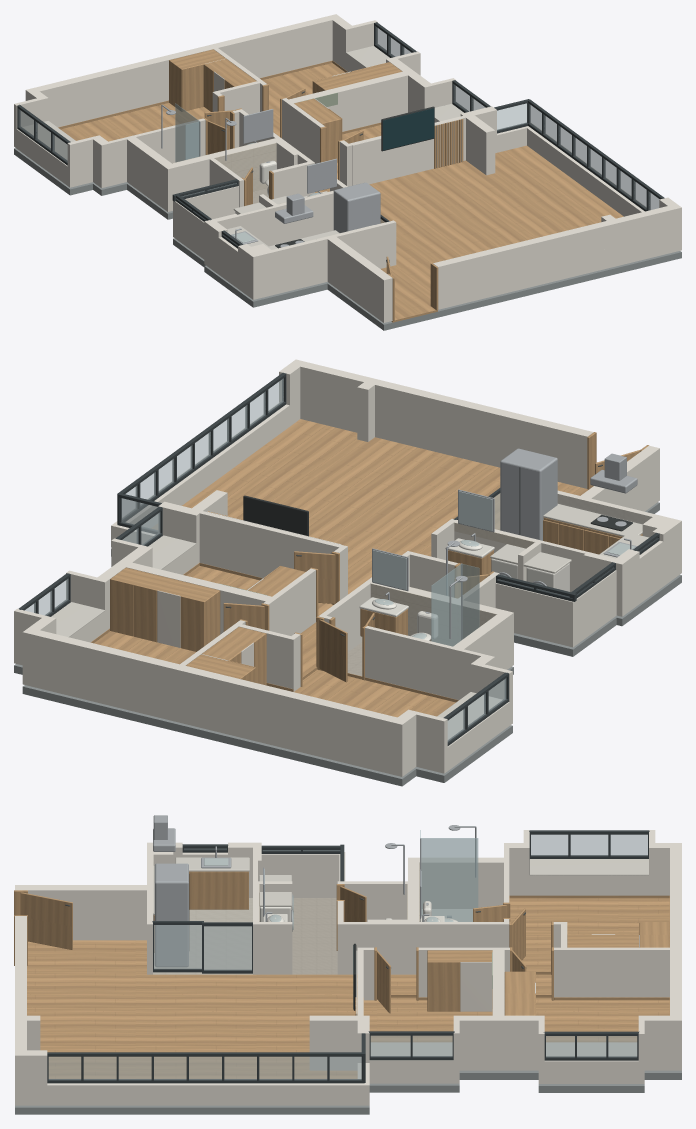
File: architecture-cut.glb
3 views of the same model, one above another, from view 1: azimuth 30°, elevation 25°; view 2: azimuth 150°, elevation 25°; view 3: azimuth 270°, elevation 25° (orthographic). The views are drawn at different scales.
Parts seen in each view (by area): view 1: 剖切墙_0.00_00, 客餐厅阳台及过道_地面, 剖切墙_0.50_04, 剖切墙_0.50_00, 住宅楼板, 剖切墙_0.95_00, 剖切墙_0.50_02, 剖切墙_0.95_04, 剖切_原木方案_暖白电视墙, 剖切墙_0.95_02, 剖切墙_0.50_01, 剖切墙_0.45_00 (+26 smaller); view 2: 剖切墙_0.00_00, 客餐厅阳台及过道_地面, 剖切墙_0.50_04, 剖切墙_0.50_00, 剖切墙_0.95_00, 住宅楼板, 剖切墙_0.50_02, 剖切墙_0.95_04, 对开门冰箱_家电占位, 剖切墙_0.95_02, 剖切墙_0.45_00, 主卧与开放衣帽间_地面 (+39 smaller); view 3: 客餐厅阳台及过道_地面, 剖切墙_0.00_00, 剖切墙_0.50_04, 住宅楼板, 主卧与开放衣帽间_地面, 剖切墙_0.95_04, 主卫淋浴_东玻璃, 剖切墙_0.95_00, 长辈房_地面, 剖切墙_0.50_00, 厨房_地面, 公卫湿区与盥洗晾晒_地面 (+54 smaller).
Boxes of the visible parts, x1,y1,x2,y2 form: 剖切墙_0.00_00: [14, 45, 681, 322]; 客餐厅阳台及过道_地面: [315, 145, 623, 322]; 剖切墙_0.50_04: [67, 117, 396, 303]; 剖切墙_0.50_00: [14, 26, 373, 128]; 住宅楼板: [14, 148, 681, 330]; 剖切墙_0.95_00: [14, 14, 377, 111]; 剖切墙_0.50_02: [438, 206, 681, 290]; 剖切墙_0.95_04: [67, 109, 314, 186]; 剖切_原木方案_暖白电视墙: [352, 118, 462, 185]; 剖切墙_0.95_02: [433, 197, 681, 272]; 剖切墙_0.50_01: [282, 59, 452, 149]; 剖切墙_0.45_00: [14, 43, 496, 305]; 剖切墙_0.00_00: [14, 397, 681, 776]; 客餐厅阳台及过道_地面: [152, 419, 588, 676]; 剖切墙_0.50_04: [334, 455, 681, 701]; 剖切墙_0.50_00: [14, 618, 447, 752]; 剖切墙_0.95_00: [14, 608, 447, 731]; 住宅楼板: [14, 502, 681, 786]; 剖切墙_0.50_02: [279, 374, 587, 464]; 剖切墙_0.95_04: [318, 551, 513, 680]; 对开门冰箱_家电占位: [500, 448, 557, 540]; 剖切墙_0.95_02: [279, 359, 593, 443]; 剖切墙_0.45_00: [14, 477, 681, 755]; 主卧与开放衣帽间_地面: [294, 669, 455, 717]; 客餐厅阳台及过道_地面: [27, 940, 551, 1078]; 剖切墙_0.00_00: [15, 877, 681, 1105]; 剖切墙_0.50_04: [46, 852, 529, 951]; 住宅楼板: [15, 1070, 681, 1114]; 主卧与开放衣帽间_地面: [509, 898, 669, 971]; 剖切墙_0.95_04: [337, 830, 529, 931]; 主卫淋浴_东玻璃: [421, 838, 478, 921]; 剖切墙_0.95_00: [553, 830, 681, 1040]; 长辈房_地面: [536, 997, 669, 1041]; 剖切墙_0.50_00: [553, 855, 681, 1061]; 厨房_地面: [153, 898, 252, 974]; 公卫湿区与盥洗晾晒_地面: [292, 898, 337, 974].
Size of the model in its own units: 10.62 by 2.43 by 13.28.
Materials: 23 (7 with a texture image).
